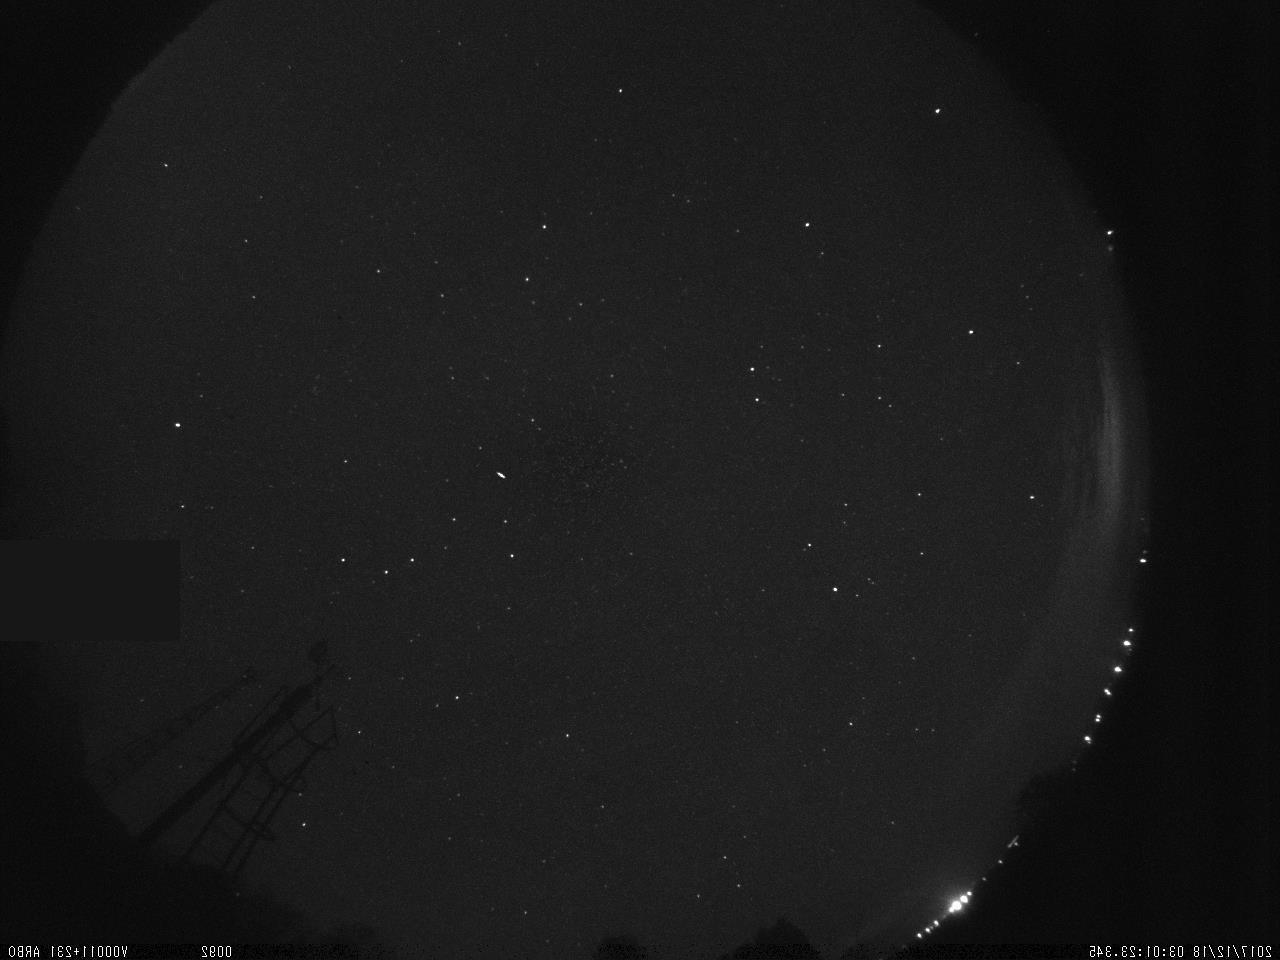meteor: (485, 467, 518, 484)
